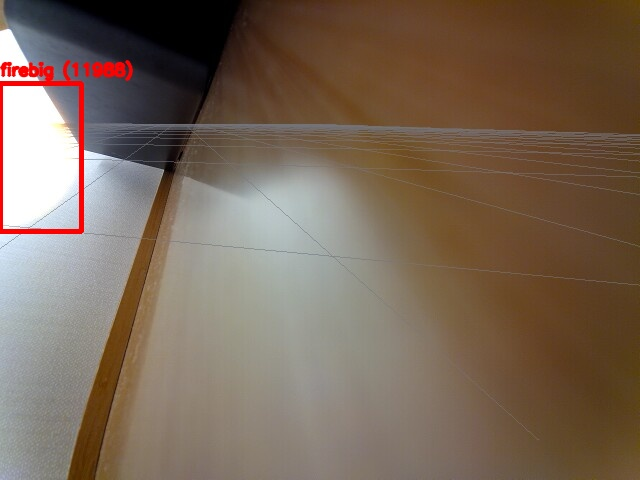firebig: (0, 83, 81, 231)
